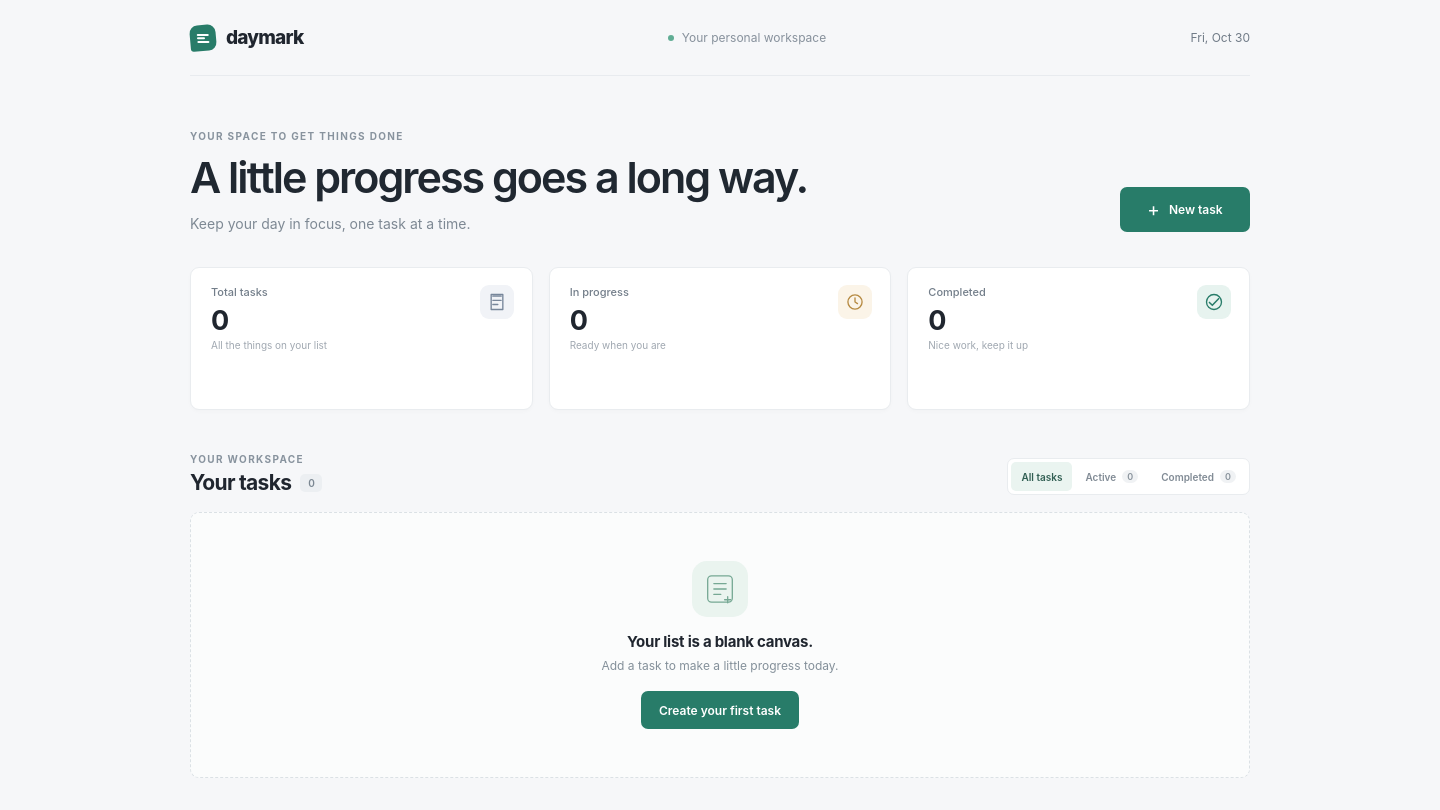
Test case: Tasks dashboard › shows a useful empty state and can start creating the first task
This screenshot has width=1440, height=810.
Expected: the heading "Your list is a blank canvas." is shown, [627,632,813,651]
What coordinates should you click on to do the following:
click the button "Create your first task"
I would click on:
 (720, 710)
Its box is [641,691,799,729].
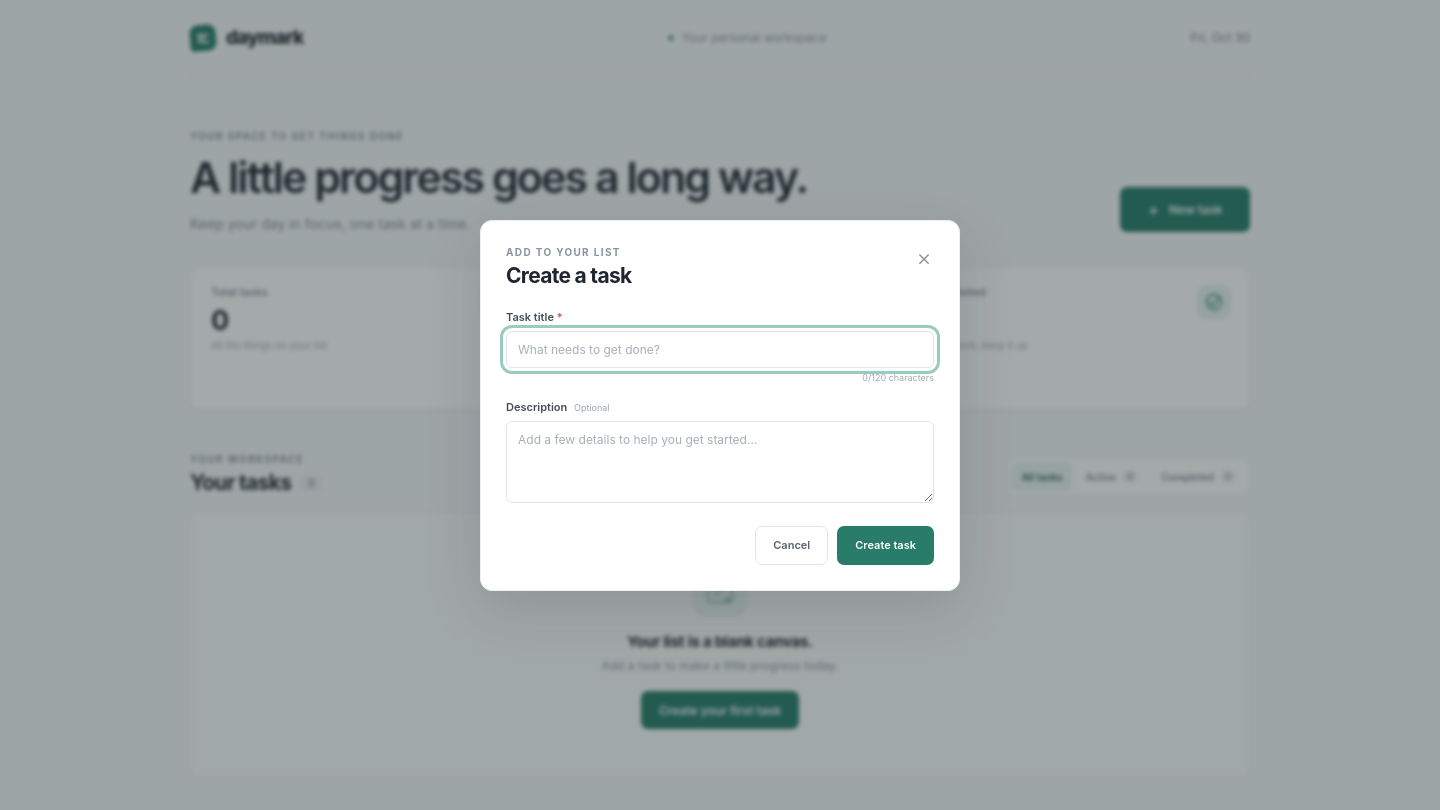
Result: the dialog "Create a task" is shown at [480,220,960,590]
